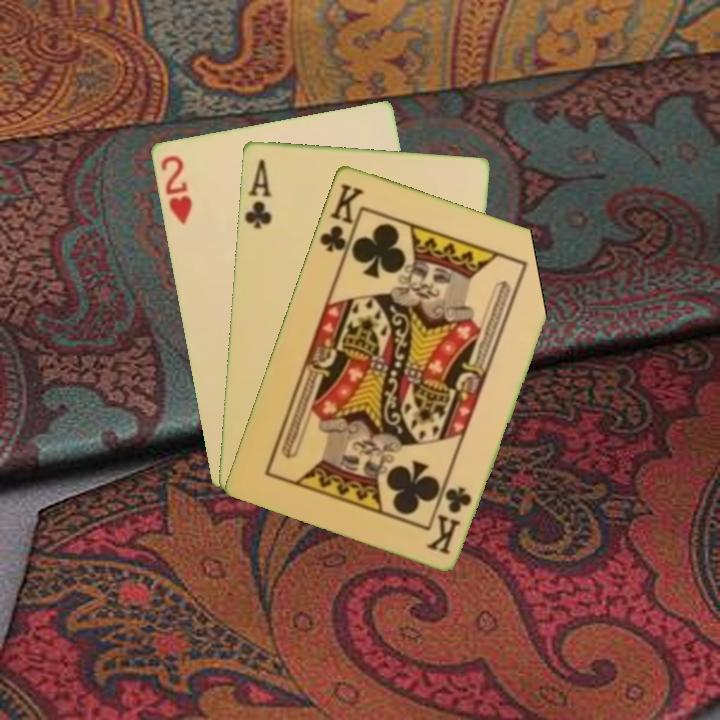2h: (156, 151, 195, 228)
Ac: (240, 156, 275, 231)
Kc: (315, 179, 367, 262), (424, 482, 475, 557)
